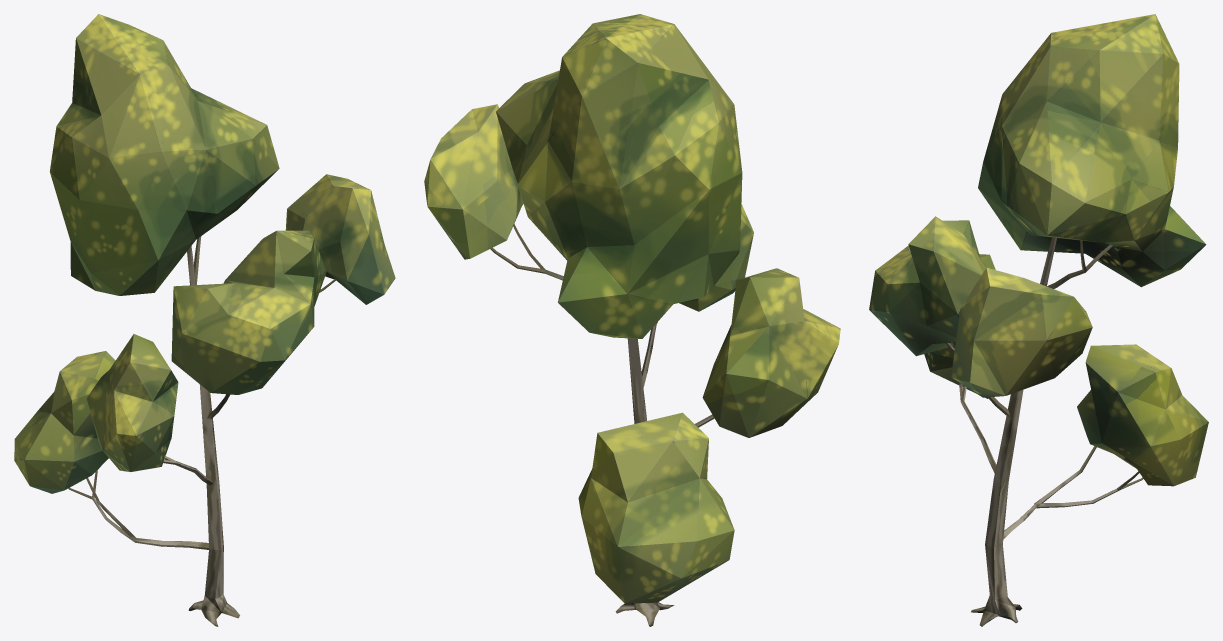
The model's file is tree-elm-low-poly.obj.
3 views of the same model, side by side, from view 1: azimuth 30°, elevation 25°; view 2: azimuth 150°, elevation 25°; view 3: azimuth 270°, elevation 25° (orthographic). The views are drawn at different scales.
Parts seen in each view (by area): view 1: Mesh.001; view 2: Mesh.001; view 3: Mesh.001.
Boxes of the visible parts, x1,y1,x2,y2 form: Mesh.001: [14, 14, 395, 626]; Mesh.001: [424, 14, 840, 626]; Mesh.001: [869, 14, 1208, 626].
Bounding box in the file's own units: 1018 × 1803 × 952.
1 material, 1 textured.
